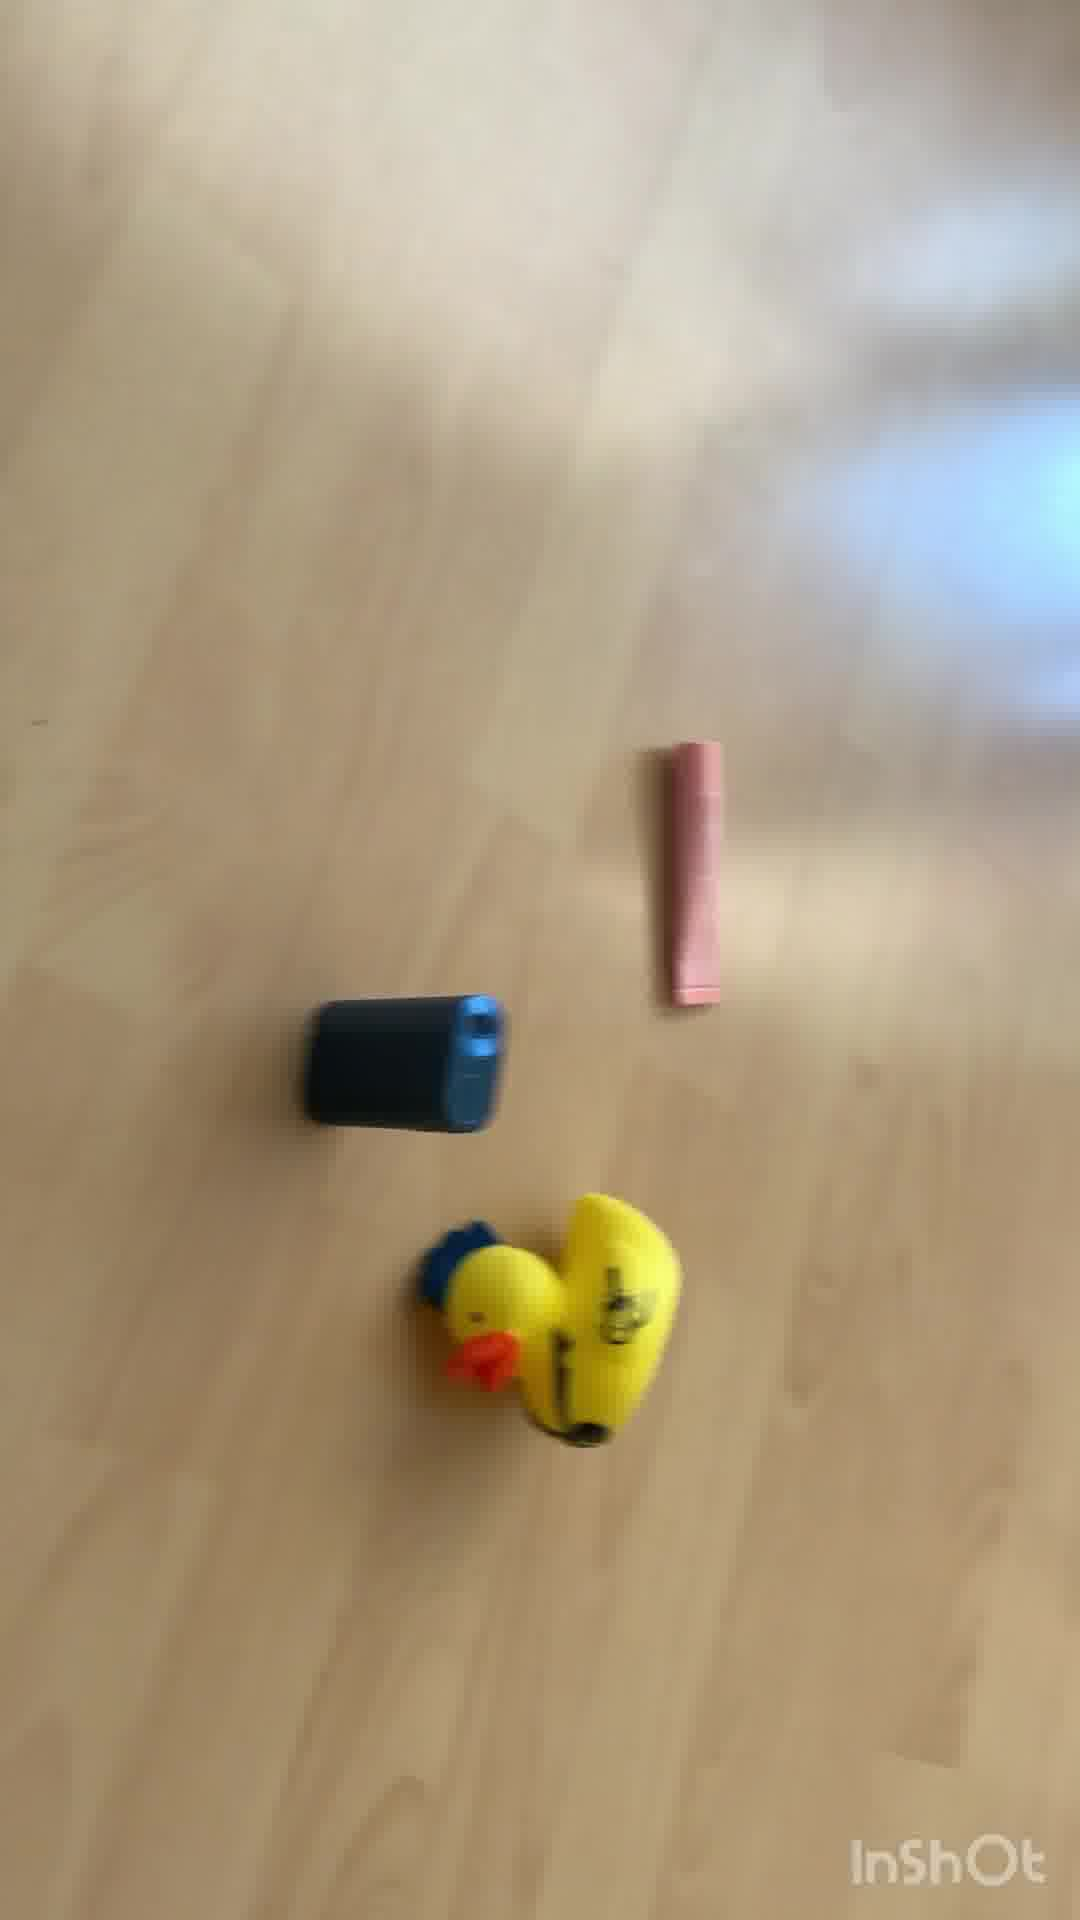duck: (407, 1180, 690, 1455)
glo: (290, 996, 518, 1135)
lip balm: (651, 736, 749, 1013)
